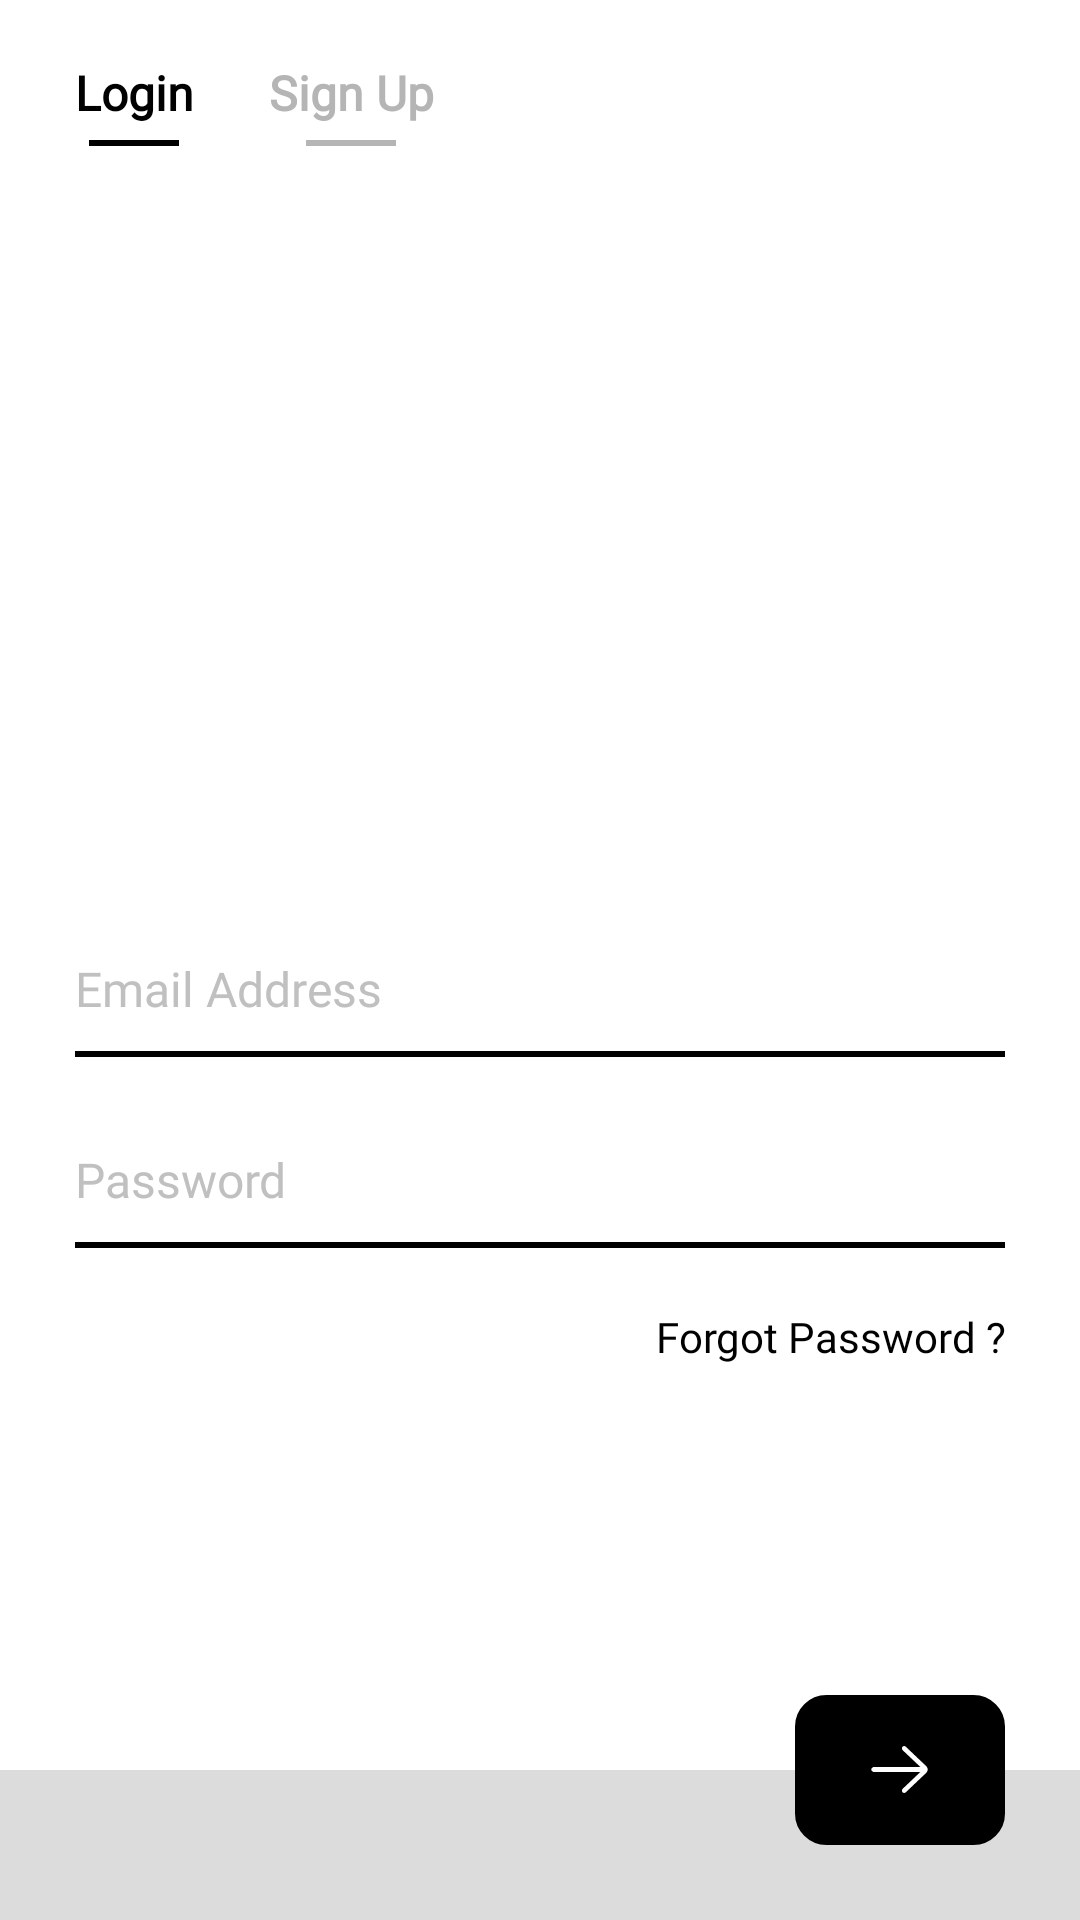

Where icons sit on this 1080 × 1920 app screen, as (x1, y1, x2, y2):
next: (871, 1746, 928, 1793)
